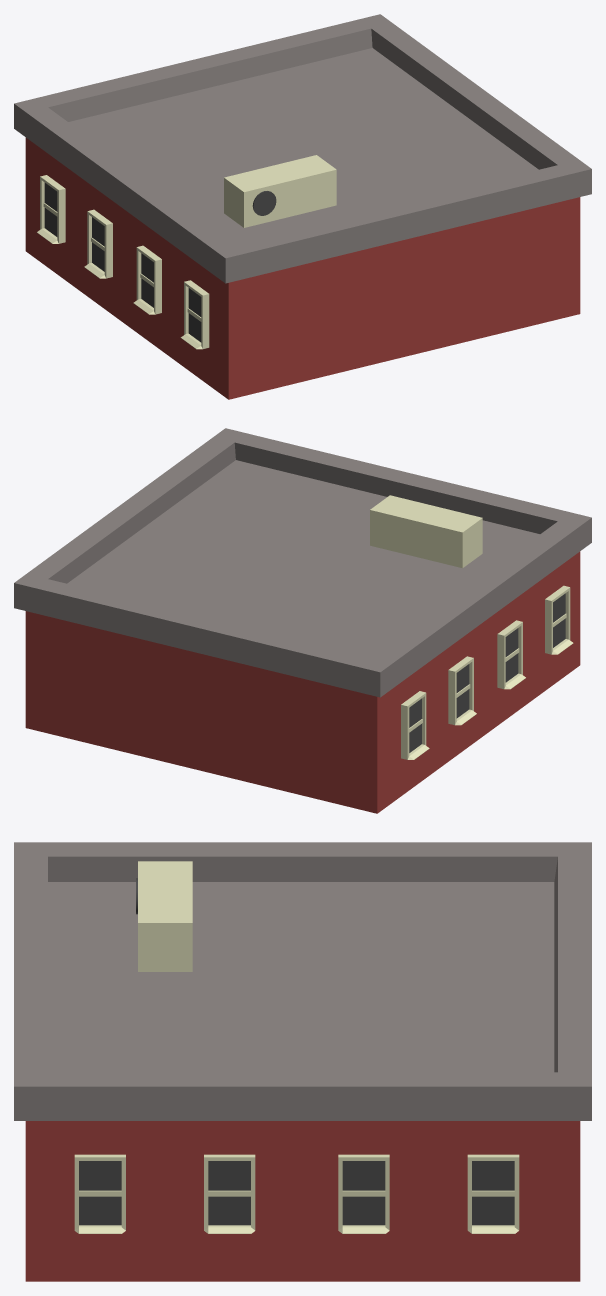
File: Building1 top.fbx
The picture shows the model from 3 angles, top to bottom: view 1: azimuth 30°, elevation 25°; view 2: azimuth 150°, elevation 25°; view 3: azimuth 270°, elevation 25°; orthographic projection. The views are drawn at different scales.
Visible parts, largest first — view 1: pCube39; view 2: pCube39; view 3: pCube39.
Part boxes in pixels (x1=…): pCube39: x1=14, y1=14, x2=591, y2=399; pCube39: x1=14, y1=428, x2=591, y2=813; pCube39: x1=14, y1=842, x2=591, y2=1281.
Size of the model in its own units: 127 by 53.35 by 125.
